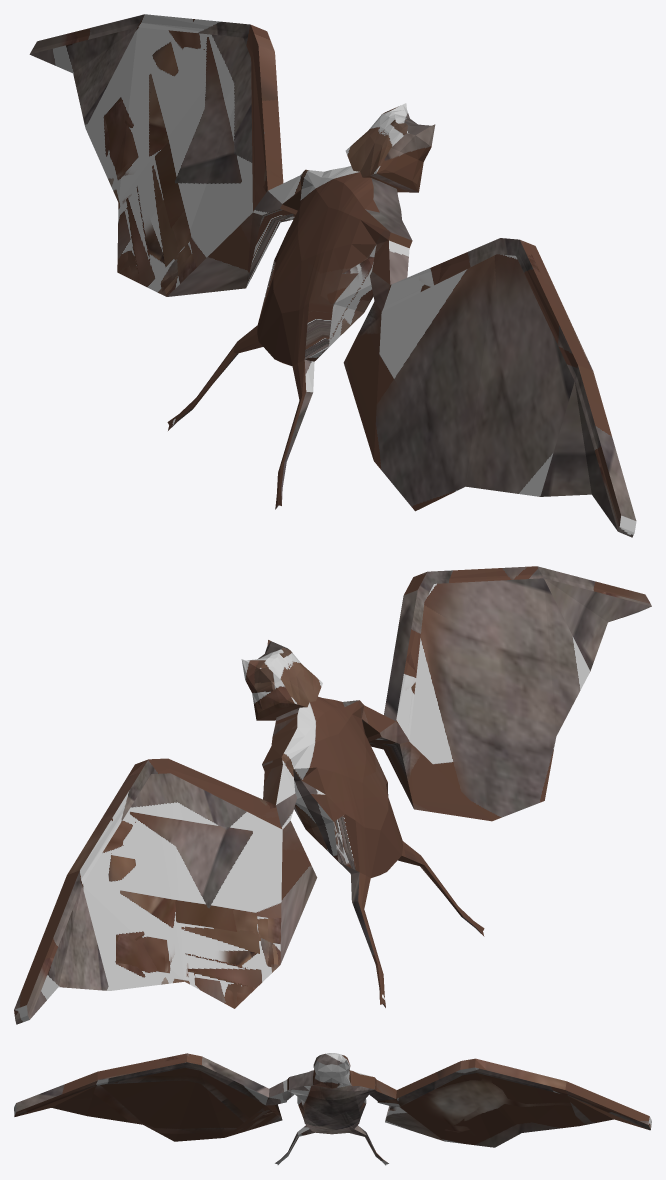
The model's file is Enemigo115.obj.
3 renders of one model, top to bottom at view 1: azimuth 30°, elevation 25°; view 2: azimuth 150°, elevation 25°; view 3: azimuth 270°, elevation 25°, orthographic. The views are drawn at different scales.
Visible parts, largest first — view 1: Plano; view 2: Plano; view 3: Plano.
Part boxes in pixels (bbox=[...]): Plano: bbox=[29, 14, 636, 537]; Plano: bbox=[14, 566, 651, 1024]; Plano: bbox=[14, 1053, 651, 1165].
Size of the model in its own units: 0.4261 by 0.6332 by 2.36.
Materials: 1 (1 with a texture image).
